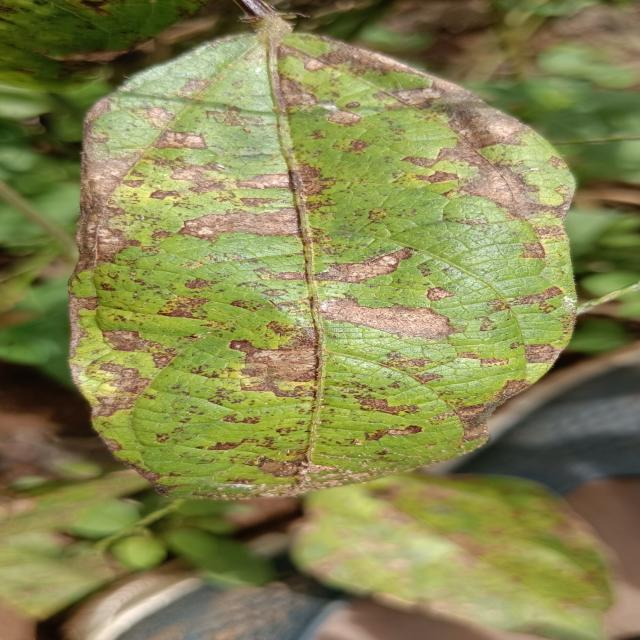Black gram_leaf spot: (80, 25, 575, 499), (272, 475, 640, 640)
